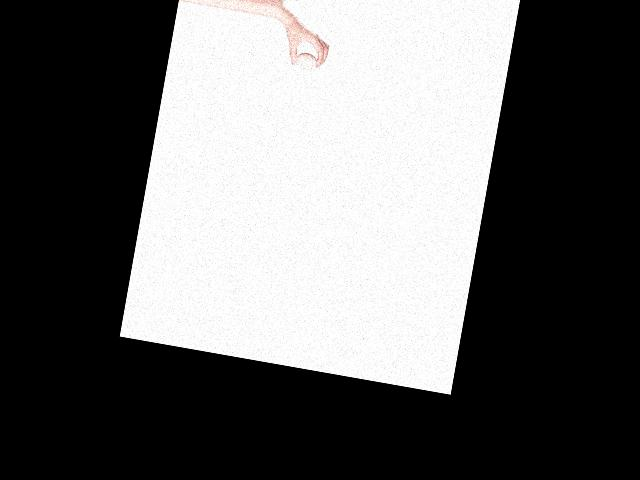egg: (294, 51, 318, 70)
